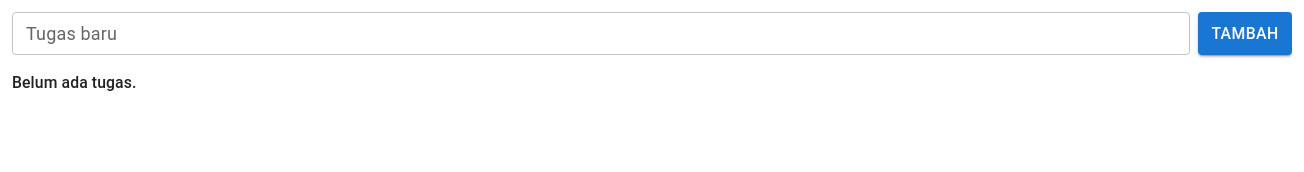
Test case: DaftarTugas (integrasi: form + daftar) › menambah tugas lewat form dan menampilkannya di daftar
Type "Belajar Jest" into the field labelled "Tugas baru" at (601, 33), box top-left (12, 12), bottom-right (1190, 55)
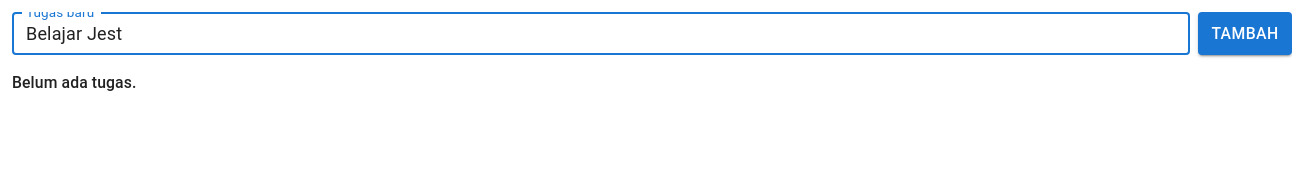
Click the button "Tambah" at (1245, 33), box top-left (1198, 12), bottom-right (1292, 55)
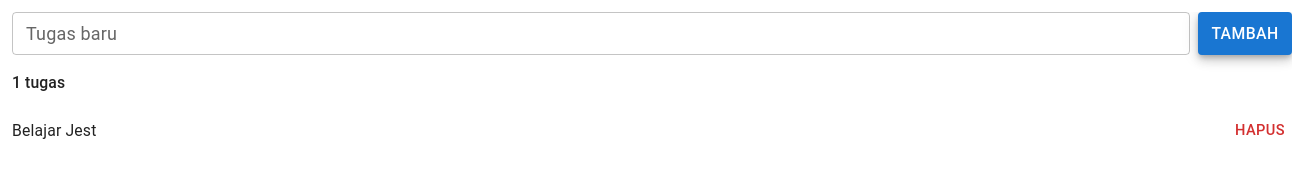
Result: the text "Belajar Jest" is shown at top-left (12, 121), bottom-right (96, 140)
Result: the heading "1 tugas" is shown at top-left (12, 73), bottom-right (65, 92)
Result: the heading "Belum ada tugas." is gone
